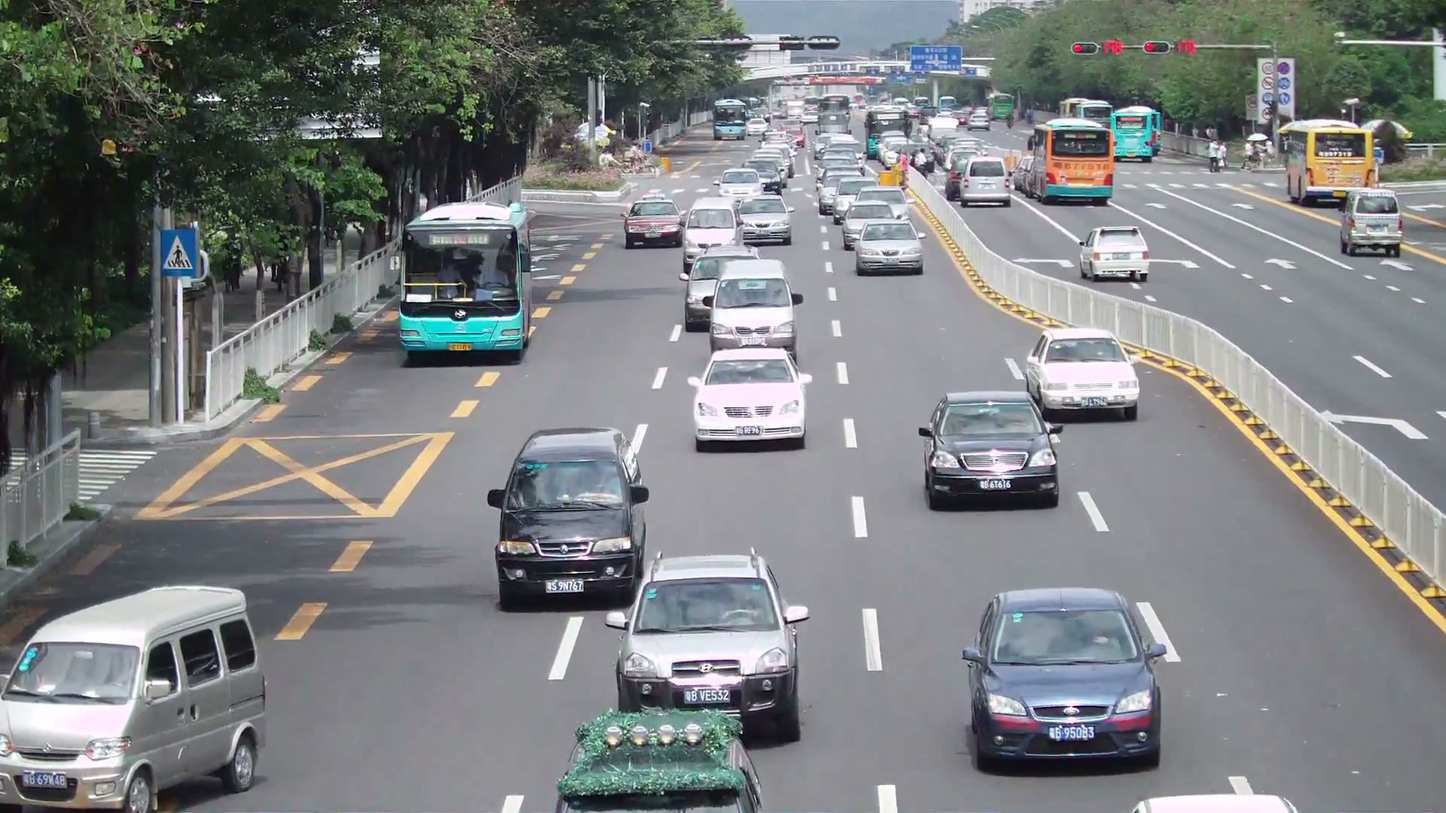bus: (398, 200, 533, 364), (1279, 117, 1381, 206), (1038, 117, 1115, 204), (1109, 105, 1162, 160)
car: (0, 582, 268, 811), (961, 588, 1177, 774), (605, 551, 810, 743), (486, 426, 650, 611), (556, 709, 764, 812), (916, 389, 1062, 511), (689, 346, 810, 453), (1018, 324, 1143, 424), (706, 270, 804, 366), (681, 250, 767, 329), (1336, 187, 1403, 255), (1077, 226, 1151, 282), (851, 220, 926, 275), (623, 196, 683, 249), (956, 155, 1012, 210), (683, 198, 739, 252), (733, 196, 794, 244)
truck: (1280, 118, 1380, 207), (1037, 117, 1115, 205), (1335, 188, 1403, 257)
